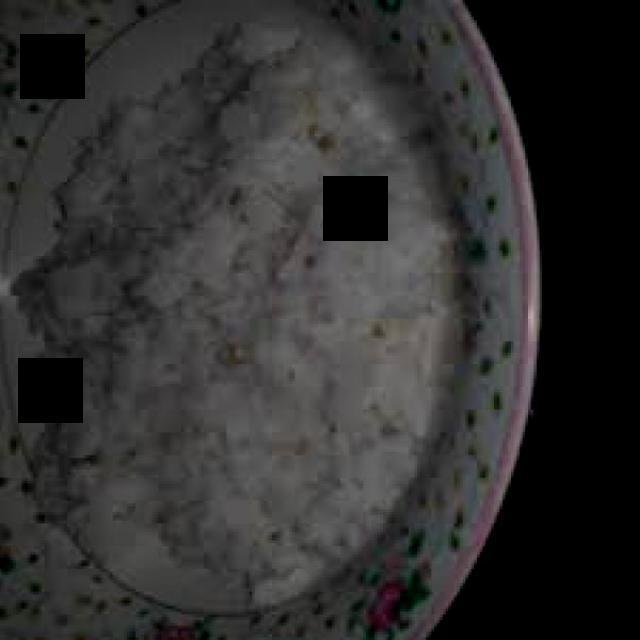Chicken -Chicken Inasal-: (21, 36, 444, 597)
